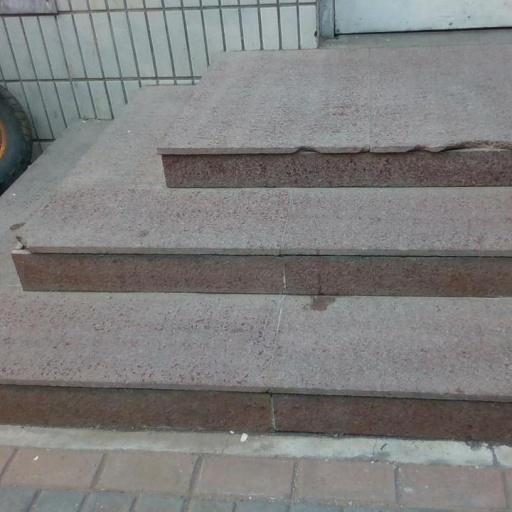stairs: (0, 45, 511, 439)
